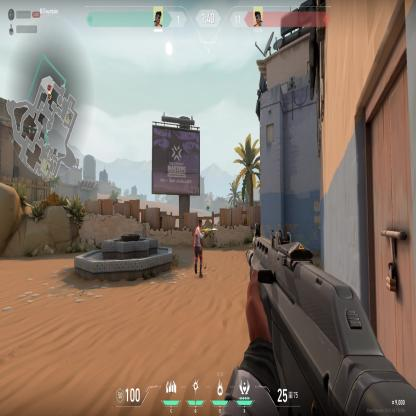enemy: (193, 217, 207, 279)
